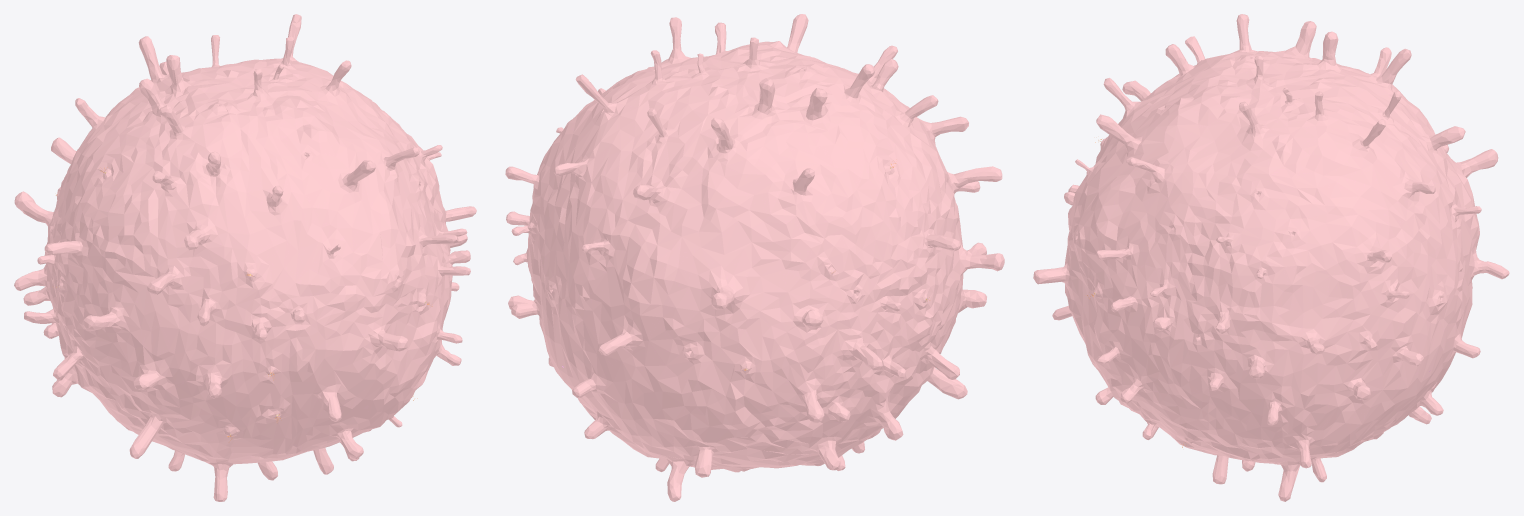
The model's file is cell.glb.
3 views of the same model, side by side, from view 1: azimuth 30°, elevation 25°; view 2: azimuth 150°, elevation 25°; view 3: azimuth 270°, elevation 25° (orthographic). The views are drawn at different scales.
Parts seen in each view (by area): view 1: primitive_0; view 2: primitive_0; view 3: primitive_0.
Part boxes in pixels (x1,y1,x2,y2): primitive_0: [14, 14, 476, 501]; primitive_0: [505, 14, 1004, 501]; primitive_0: [1033, 14, 1509, 501].
Size of the model in its own units: 0.4335 by 0.4127 by 0.4334.
2 materials, 2 textured.
